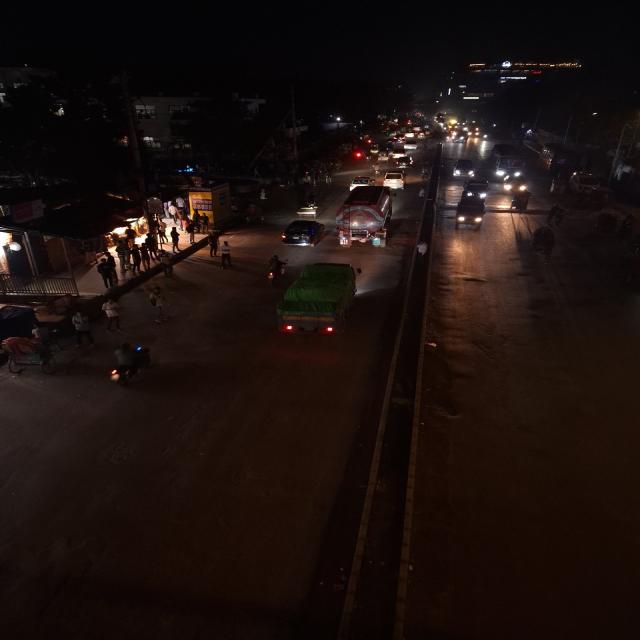bus: (489, 141, 532, 181)
car: (280, 219, 328, 250), (449, 156, 479, 180), (380, 170, 408, 192), (346, 173, 375, 186), (396, 154, 415, 170), (403, 140, 418, 152)
cng: (377, 151, 389, 163)
motorcycle: (107, 340, 152, 390), (262, 256, 293, 282)
pedestrian: (143, 290, 170, 330), (96, 300, 125, 332), (70, 312, 93, 346), (217, 240, 235, 269), (203, 227, 219, 259), (156, 249, 171, 278)
pickup_van: (277, 261, 361, 341), (454, 195, 487, 232)
rickshaw: (1, 323, 66, 379), (529, 226, 560, 257), (291, 194, 323, 218), (511, 190, 534, 215)
truck: (331, 184, 395, 251)
